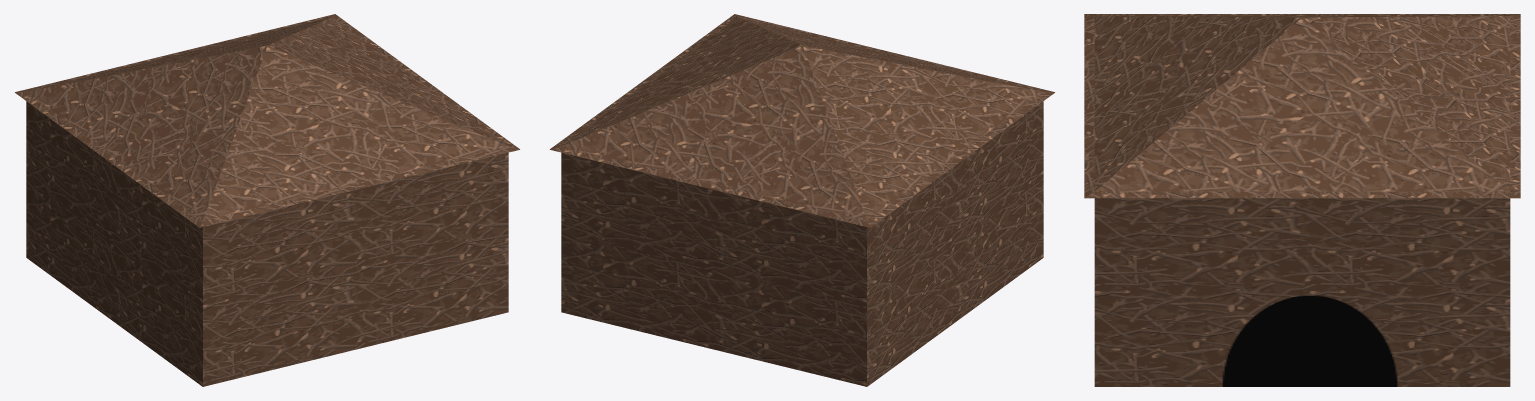
File: straw_hut.fbx
The picture shows the model from 3 angles, left to right: view 1: azimuth 30°, elevation 25°; view 2: azimuth 150°, elevation 25°; view 3: azimuth 270°, elevation 25°; orthographic projection. The views are drawn at different scales.
Visible parts, largest first — view 1: Flag.001; view 2: Flag.001; view 3: Flag.001.
Boxes of the visible parts, x1=… form: Flag.001: x1=15, y1=14, x2=519, y2=386; Flag.001: x1=550, y1=14, x2=1054, y2=386; Flag.001: x1=1084, y1=14, x2=1520, y2=386.
Size of the model in its own units: 800 by 568 by 800.
